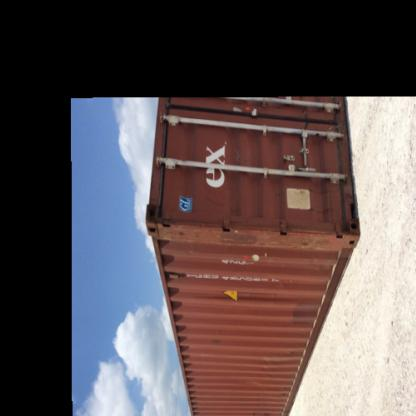Damage: (150, 221, 344, 249), (306, 176, 336, 216), (258, 351, 276, 379)
